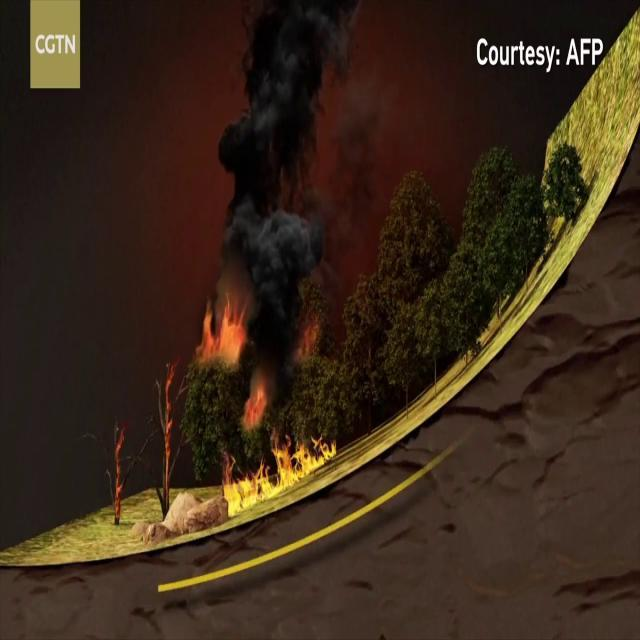Fire: (195, 290, 248, 378)
Smoke: (208, 2, 394, 426)
